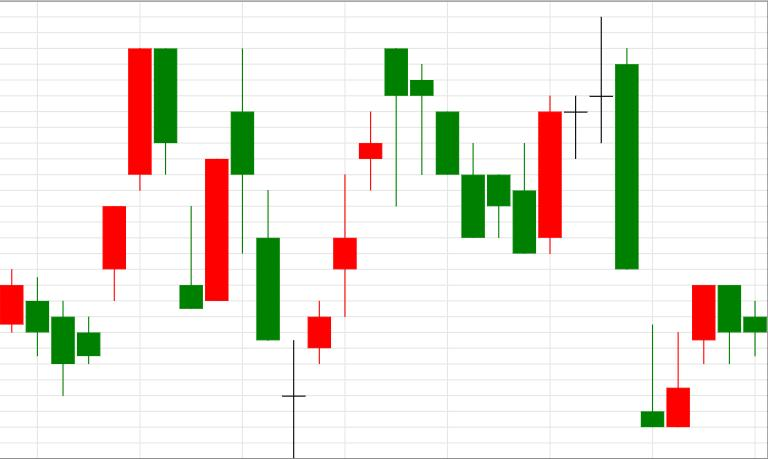hanging_man_fall: (282, 48, 407, 457)
